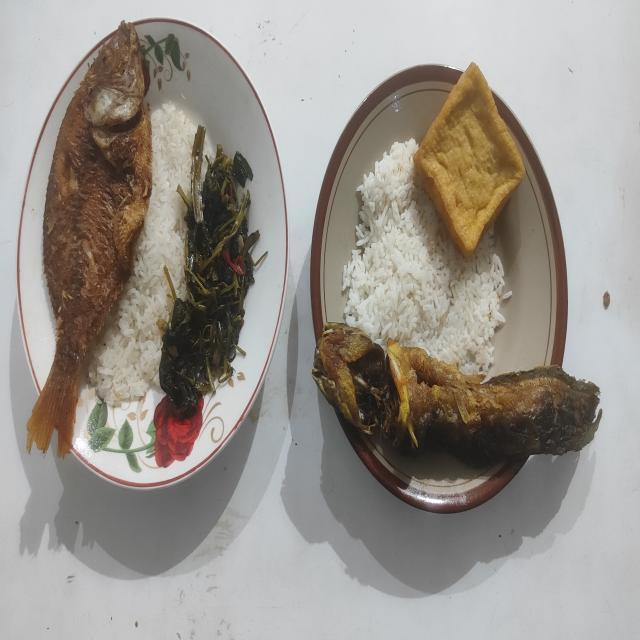ikan_mujair: (28, 21, 152, 456)
nasi_putih: (342, 138, 512, 374), (89, 102, 197, 406)
tahu_goreng: (414, 63, 524, 254)
tumis_kangkung: (159, 126, 259, 415)
